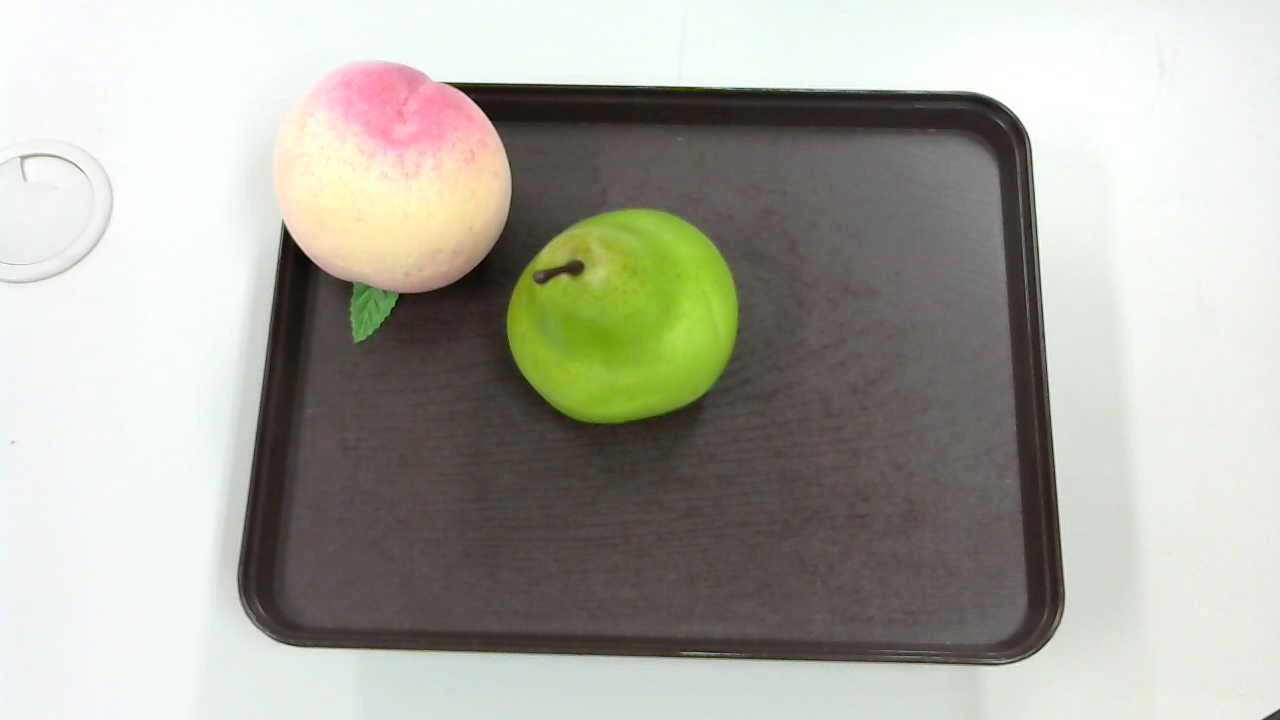green pear: (500, 209, 738, 418)
peach: (272, 56, 516, 344)
